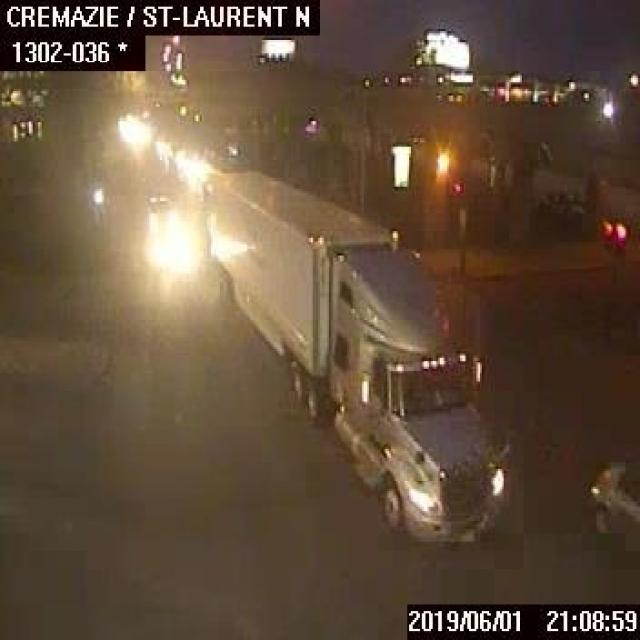vehicle: (196, 154, 511, 554), (584, 449, 638, 547), (144, 192, 178, 232)
